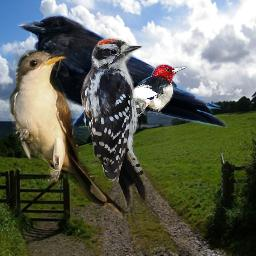Crow: (15, 14, 228, 133)
Cuckoo: (9, 50, 129, 223)
Woodpecker: (79, 38, 146, 207), (123, 64, 188, 118)
